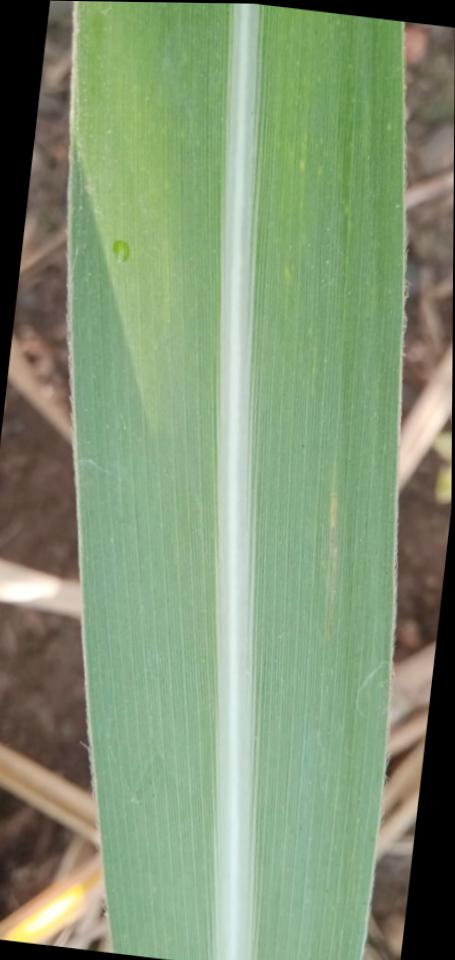Healthy: (67, 1, 404, 960)
